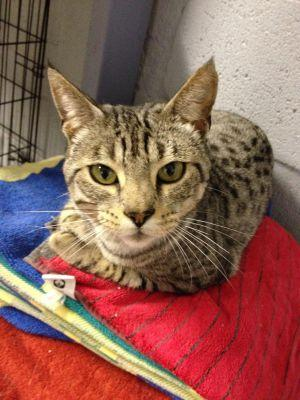bengal: (43, 55, 237, 258)
